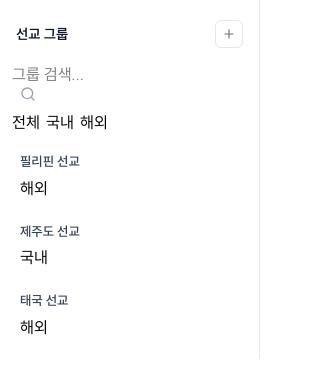
GroupPanel › "국내" 필터를 선택하면 국내 그룹만 표시한다
Click the radio button labelled "국내": click(60, 122) [46,110,74,134]
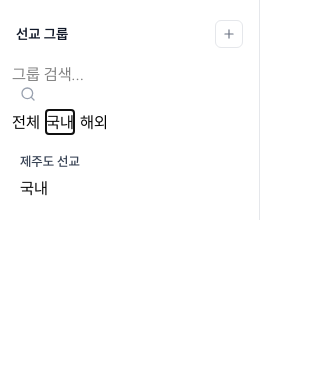
Expected: the text "제주도 선교" is shown, [20,153,80,169]
Expected: the link "필리핀 선교" is gone
Expected: the link "태국 선교" is gone
